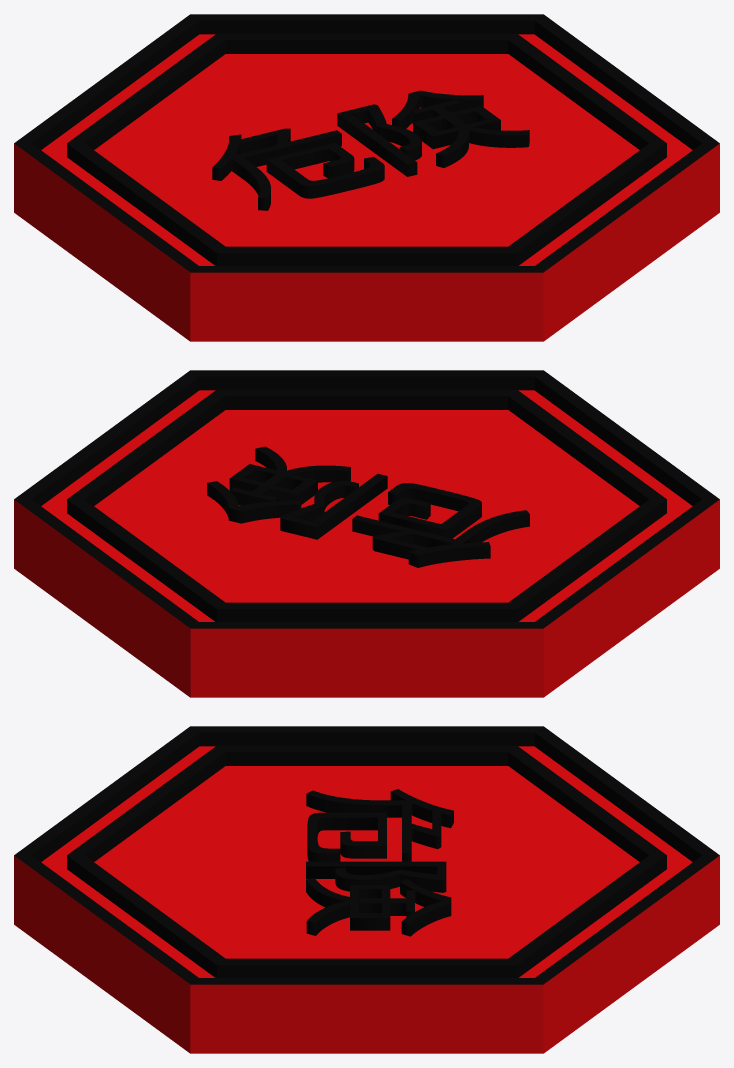
File: emergency.glb
3 views of the same model, one above another, from view 1: azimuth 30°, elevation 25°; view 2: azimuth 150°, elevation 25°; view 3: azimuth 270°, elevation 25° (orthographic).
Visible parts, largest first — view 1: Red, Black; view 2: Red, Black; view 3: Red, Black.
Boxes of the visible parts, x1,y1,x2,y2 form: Red: [14, 34, 719, 341]; Black: [14, 14, 719, 272]; Red: [14, 390, 719, 697]; Black: [14, 370, 719, 628]; Red: [14, 746, 719, 1053]; Black: [14, 726, 719, 984].
Size of the model in its own units: 2 by 0.25 by 2.31.
